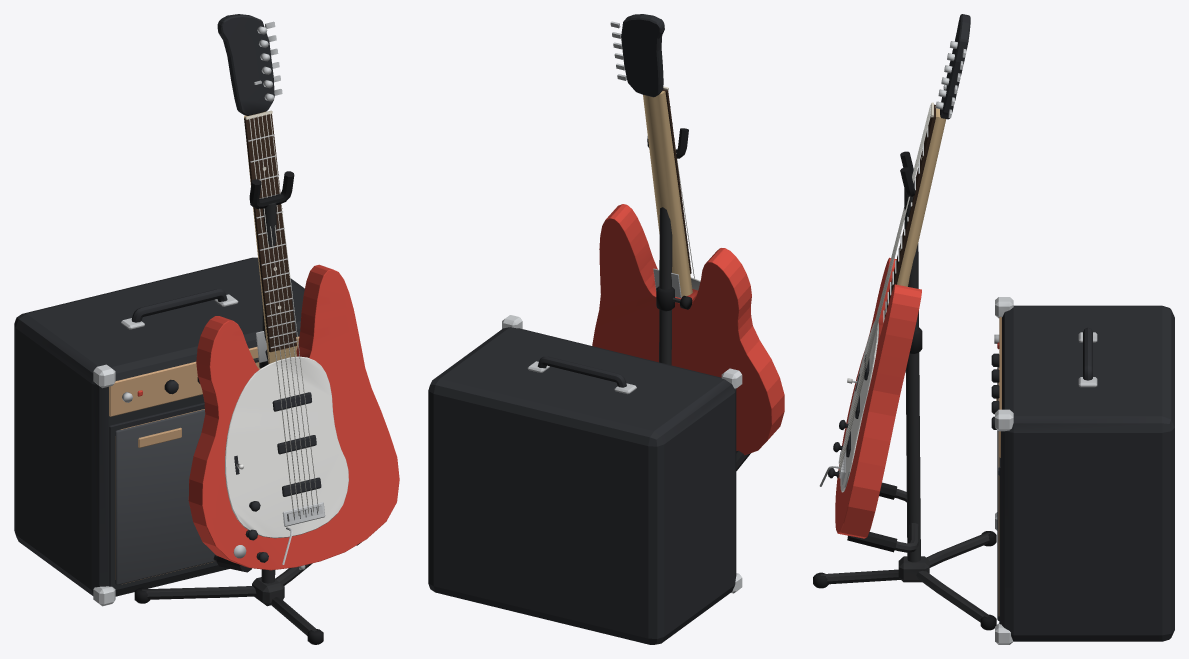
The model's file is guitarElectric.glb.
The picture shows the model from 3 angles, left to right: view 1: azimuth 30°, elevation 25°; view 2: azimuth 150°, elevation 25°; view 3: azimuth 270°, elevation 25°; orthographic projection. The views are drawn at different scales.
Visible parts, largest first — view 1: stand, guitar; view 2: stand, guitar; view 3: stand, guitar.
Boxes of the visible parts, <box> form: stand: <box>14,171,361,644</box>; guitar: <box>188,14,399,570</box>; stand: <box>428,128,750,644</box>; guitar: <box>592,14,784,455</box>; stand: <box>813,151,1174,644</box>; guitar: <box>819,14,970,538</box>.
Bounding box in the file's own units: 0.46 × 1 × 0.583.
